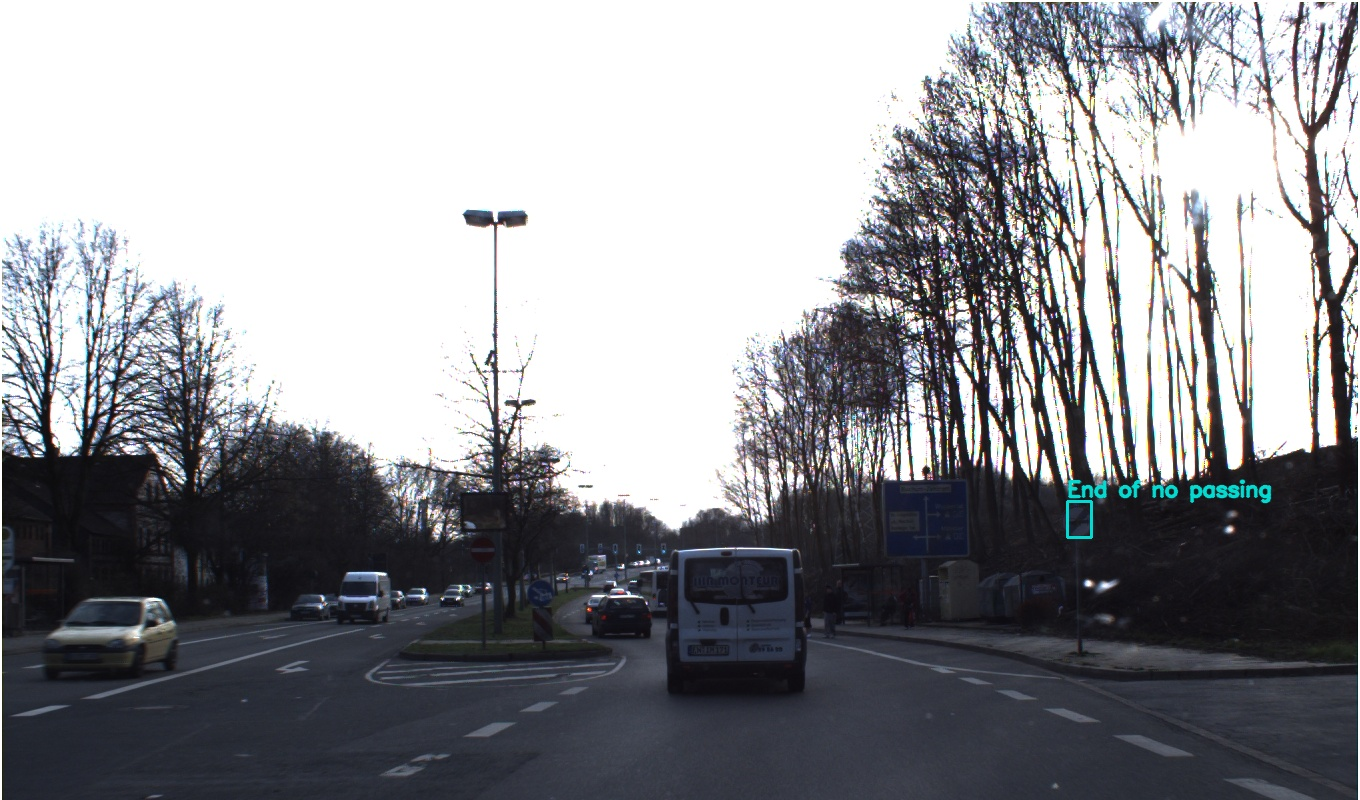Speed limit (70km/h): (912, 322, 944, 358)
